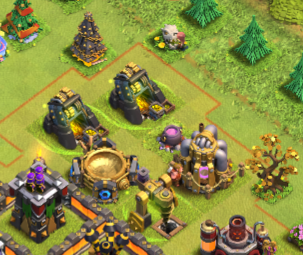dark_elixir_colector: (125, 167, 187, 243)
elixir_colector: (172, 118, 235, 202)
gold_mine: (106, 58, 175, 136), (35, 83, 106, 156)
